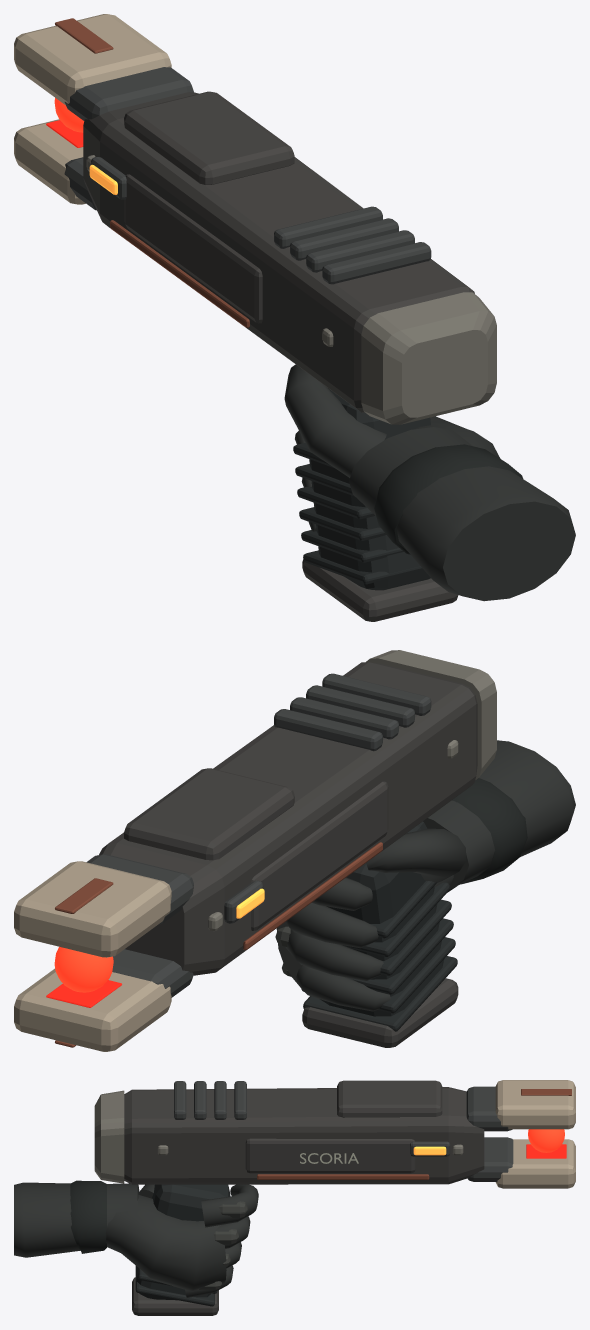
Rendered from scoria_equipped.glb.
3 renders of one model, top to bottom at view 1: azimuth 30°, elevation 25°; view 2: azimuth 150°, elevation 25°; view 3: azimuth 270°, elevation 25°, orthographic. The views are drawn at different scales.
Visible parts, largest first — view 1: Graphite spine, Gauntlet, Rear cap, Raised spine lug, Ceramic side insert, Beveled ceramic jaw.001, Rubber grip core, Wrapped thumb, Cuff binding, Grip heel, Fork mount.001, Beveled ceramic jaw (+12 smaller); view 2: Graphite spine, Beveled ceramic jaw.001, Raised spine lug, Gauntlet, Beveled ceramic jaw, Ceramic side insert, Rubber grip core, Rear cap, Wrapped thumb, Grip heel, Cuff binding, Wrapped finger 3 (+21 smaller); view 3: Graphite spine, Wrapped palm, Ceramic side insert.001, Gauntlet, Raised spine lug, Beveled ceramic jaw.001, Rear cap, Beveled ceramic jaw, Rubber grip core, Cuff binding, Grip heel, Fork mount.001 (+18 smaller).
Boxes of the visible parts, box(x1,y1,x2,y2) form: Graphite spine: box(83, 92, 474, 412); Gauntlet: box(349, 427, 575, 601); Rear cap: box(361, 292, 496, 424); Raised spine lug: box(124, 91, 294, 184); Ceramic side insert: box(124, 174, 262, 323); Beveled ceramic jaw.001: box(14, 14, 171, 105); Rubber grip core: box(309, 389, 430, 590); Wrapped thumb: box(284, 364, 386, 477); Cuff binding: box(374, 444, 523, 554); Grip heel: box(302, 559, 458, 621); Fork mount.001: box(64, 67, 193, 120); Beveled ceramic jaw: box(14, 119, 85, 204); Graphite spine: box(99, 662, 477, 975); Beveled ceramic jaw.001: box(14, 861, 171, 957); Raised spine lug: box(124, 768, 294, 860); Gauntlet: box(423, 740, 575, 889); Beveled ceramic jaw: box(14, 968, 171, 1051); Ceramic side insert: box(251, 781, 388, 930); Rubber grip core: box(320, 821, 444, 1016); Rear cap: box(366, 650, 496, 779); Wrapped thumb: box(366, 828, 466, 882); Grip heel: box(302, 978, 458, 1047); Cuff binding: box(452, 778, 527, 884); Wrapped finger 3: box(285, 929, 383, 980); Graphite spine: box(124, 1087, 484, 1184); Wrapped palm: box(105, 1195, 226, 1291); Ceramic side insert.001: box(245, 1138, 415, 1173); Gauntlet: box(14, 1182, 139, 1257); Raised spine lug: box(337, 1080, 442, 1117); Beveled ceramic jaw.001: box(495, 1080, 575, 1129); Rear cap: box(94, 1090, 124, 1183); Beveled ceramic jaw: box(495, 1139, 575, 1188); Rubber grip core: box(136, 1184, 230, 1300); Cuff binding: box(70, 1180, 106, 1253); Grip heel: box(132, 1277, 218, 1315); Fork mount.001: box(466, 1086, 512, 1131).
Bounding box in the file's own units: 0.0809 × 0.151 × 0.362.
